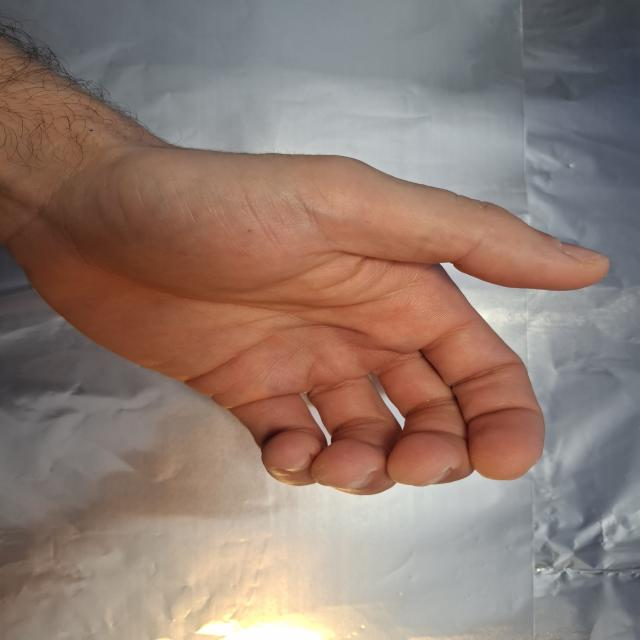glove_off: (16, 91, 614, 497)
